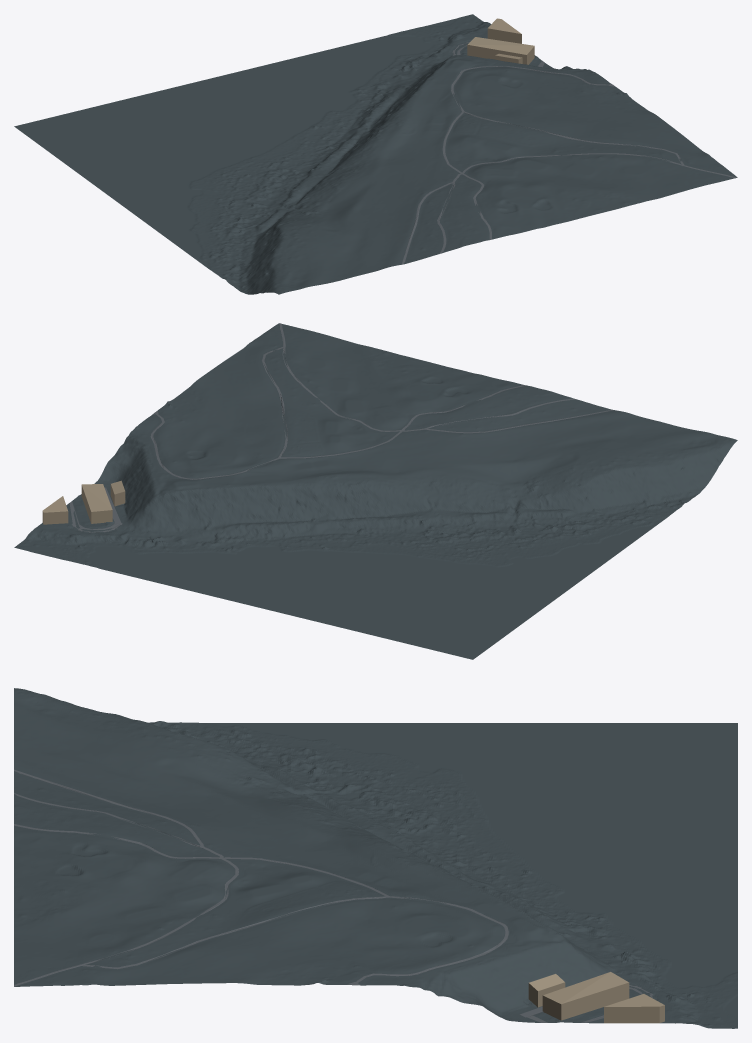
File: epsg26910-1419-10871.lod0.glb
3 views of the same model, one above another, from view 1: azimuth 30°, elevation 25°; view 2: azimuth 150°, elevation 25°; view 3: azimuth 270°, elevation 25° (orthographic). The views are drawn at different scales.
Visible parts, largest first — view 1: epsg26910-1419-10871-lod0; view 2: epsg26910-1419-10871-lod0; view 3: epsg26910-1419-10871-lod0.
Boxes of the visible parts, bbox=[...] form: epsg26910-1419-10871-lod0: bbox=[14, 14, 737, 294]; epsg26910-1419-10871-lod0: bbox=[14, 323, 737, 659]; epsg26910-1419-10871-lod0: bbox=[14, 688, 737, 1028].
Size of the model in its own units: 384 by 27.22 by 384.
